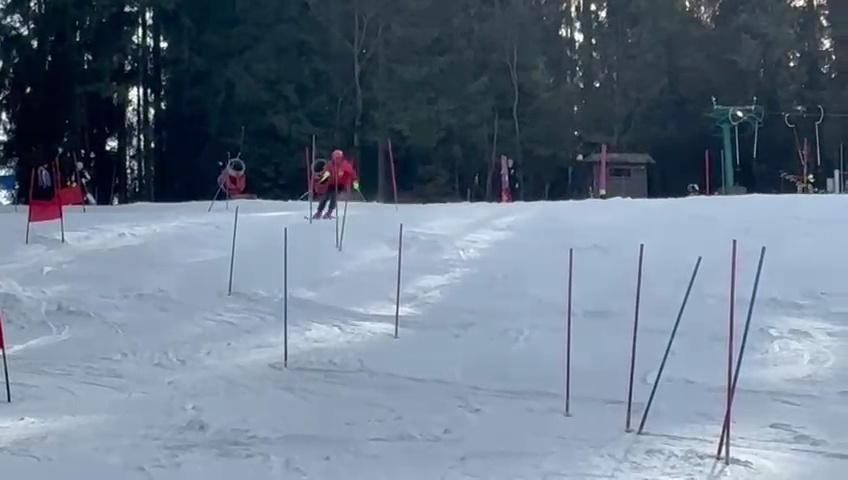gate: (705, 216, 772, 473), (637, 223, 700, 446), (600, 234, 644, 438), (273, 224, 297, 363), (388, 217, 415, 337), (330, 167, 359, 274), (563, 240, 577, 423), (51, 155, 73, 247), (19, 162, 41, 250), (303, 137, 321, 227), (222, 200, 238, 297), (385, 136, 403, 211)
